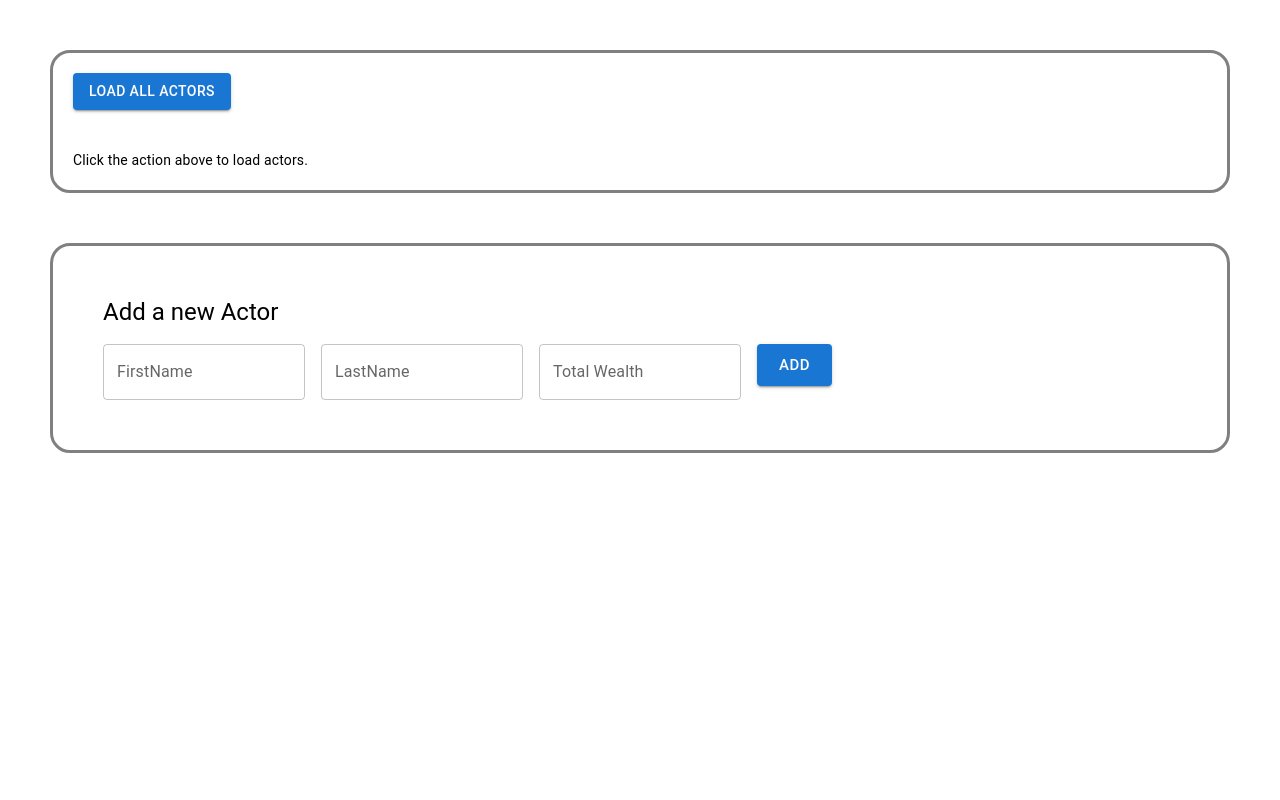
Test case: Actor Page tests › Delete first actor successfull test
What coordinates should you click on to do the following:
click the button "Load All Actors"
I would click on:
 (152, 91)
Its box is [73,73,231,110].
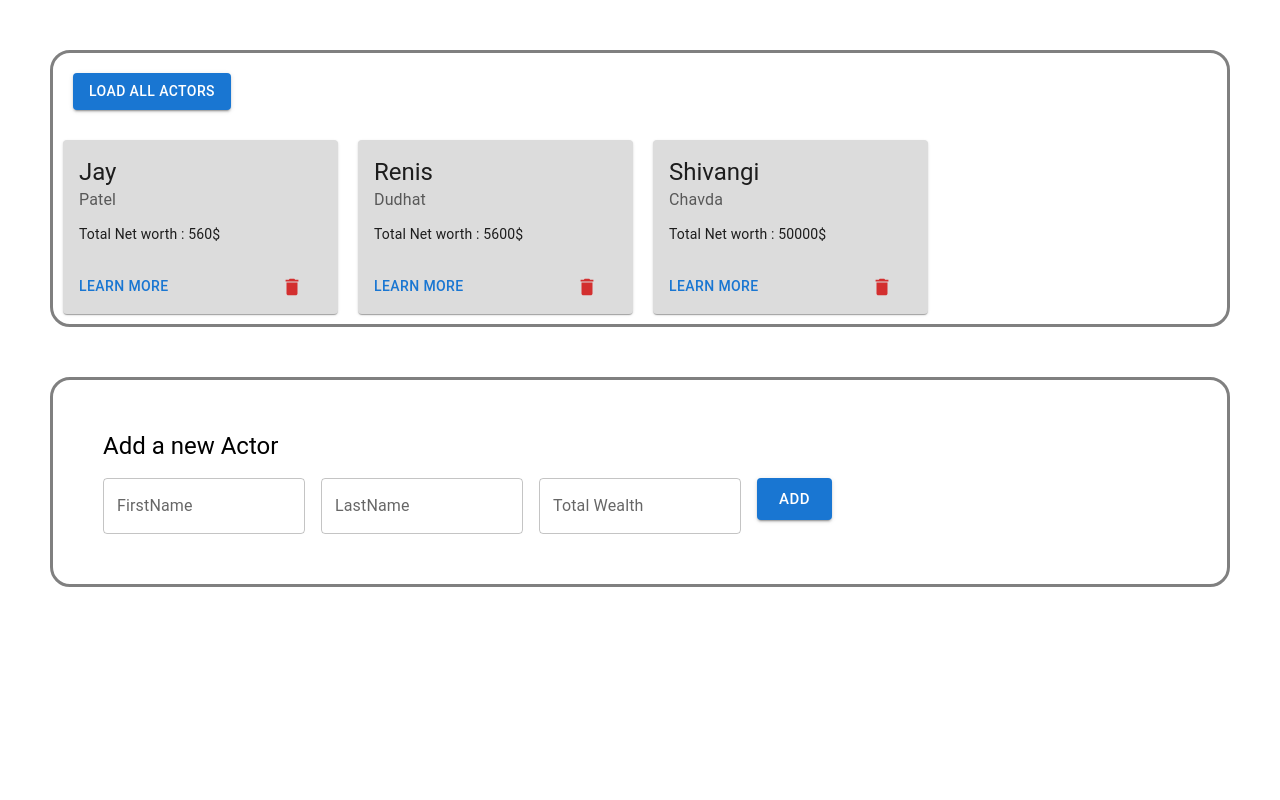
Now the number of buttons with test id "delete_actor" is 3
What coordinates should you click on to do the following:
click the button with test id "delete_actor"
I would click on:
 (298, 286)
Its box is [266,268,330,306].
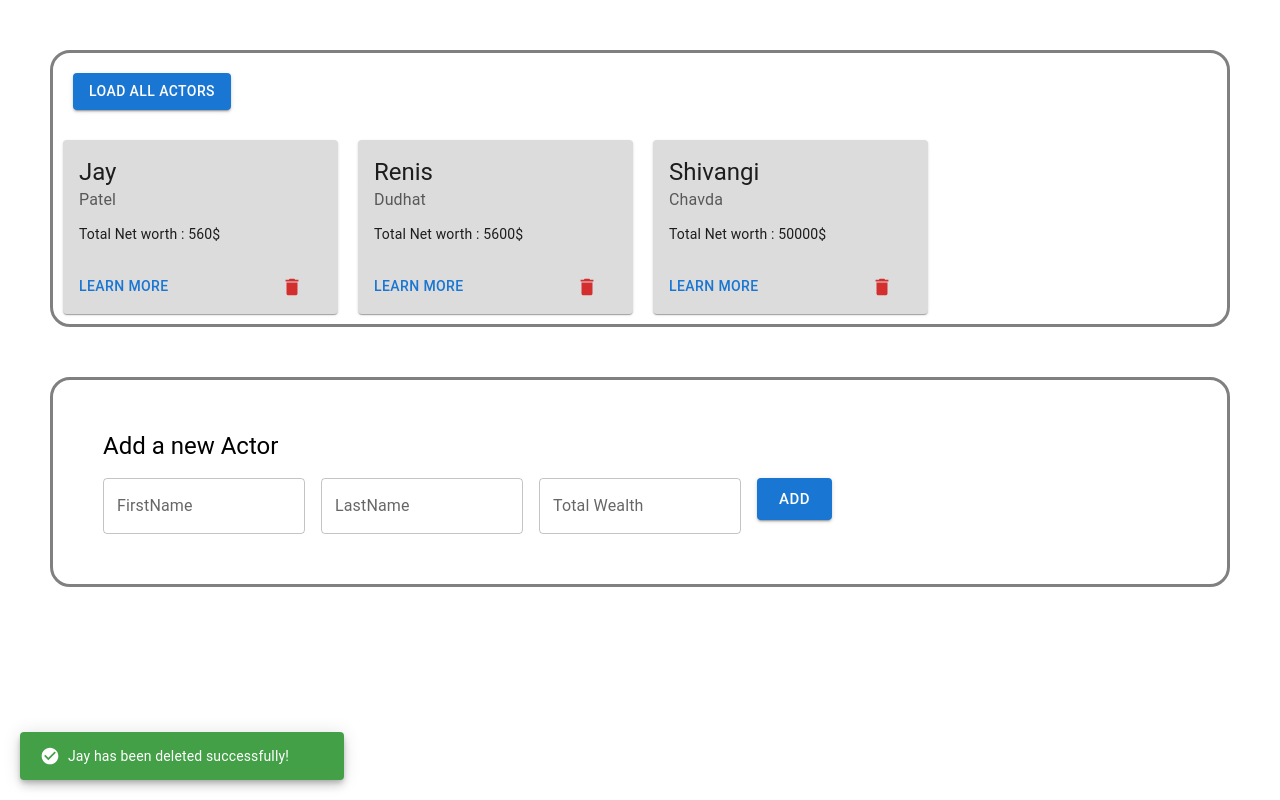
Now the text "Jay has been deleted successfully!" is shown, box [40,746,289,766]
